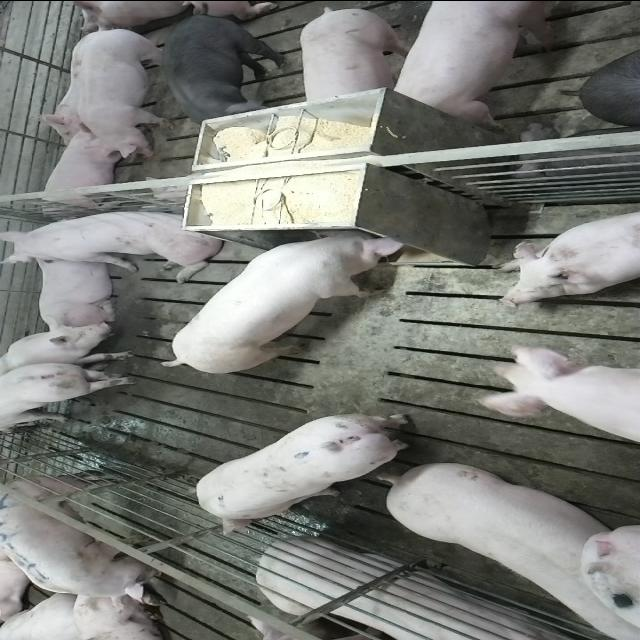Feeding: (160, 220, 410, 370)
Sitting: (4, 203, 230, 277), (2, 320, 142, 373)
Standing: (374, 456, 634, 635), (195, 413, 420, 536), (386, 2, 576, 124), (0, 474, 158, 612), (158, 13, 288, 128), (78, 22, 180, 158), (298, 6, 416, 108), (0, 361, 135, 436)
Sternal_lying: (254, 539, 586, 640), (495, 206, 640, 307), (36, 128, 132, 210), (35, 251, 122, 329)
